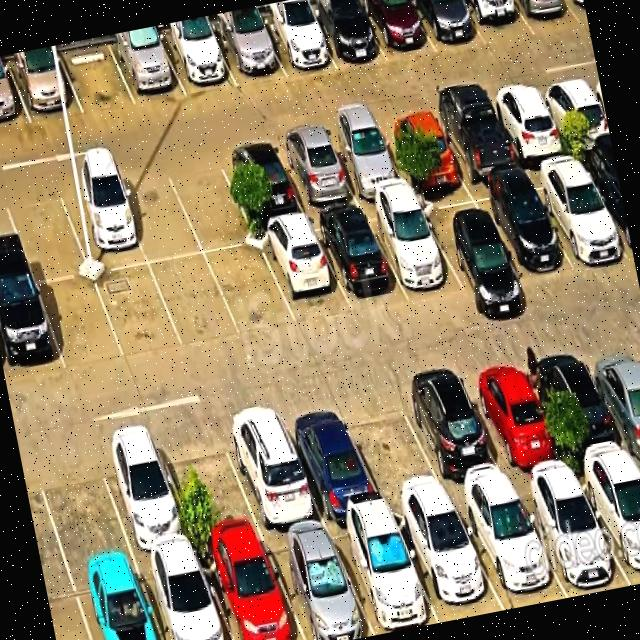empty: (154, 420, 263, 548), (337, 385, 449, 507), (31, 440, 133, 573), (164, 152, 257, 253), (114, 165, 203, 263), (94, 264, 184, 360), (2, 184, 90, 282), (150, 255, 241, 348), (206, 245, 297, 336), (38, 276, 125, 371), (58, 41, 136, 114)
occupied: (395, 370, 512, 499), (459, 358, 571, 486), (217, 403, 325, 535), (514, 476, 630, 598), (453, 488, 568, 610), (327, 512, 439, 635), (392, 502, 504, 623), (92, 429, 197, 558), (277, 397, 385, 522), (529, 345, 635, 472), (262, 527, 375, 640), (525, 162, 630, 266), (198, 538, 305, 640), (469, 178, 571, 279), (417, 190, 519, 291), (256, 219, 352, 326), (310, 208, 408, 311), (363, 200, 464, 298), (56, 174, 148, 273), (136, 549, 233, 640), (575, 460, 640, 585), (429, 99, 521, 182), (217, 141, 306, 226), (581, 337, 640, 459), (71, 561, 162, 640), (273, 132, 359, 213), (322, 122, 409, 201), (0, 280, 66, 384), (376, 111, 465, 188), (486, 87, 571, 165), (536, 77, 612, 154), (578, 155, 634, 259), (108, 33, 187, 105), (157, 27, 238, 96), (306, 0, 387, 69), (7, 51, 83, 123), (257, 9, 337, 77), (211, 18, 286, 86), (359, 0, 437, 62), (411, 0, 486, 53), (460, 0, 535, 47), (513, 0, 583, 35), (0, 60, 31, 129), (567, 0, 589, 25)
